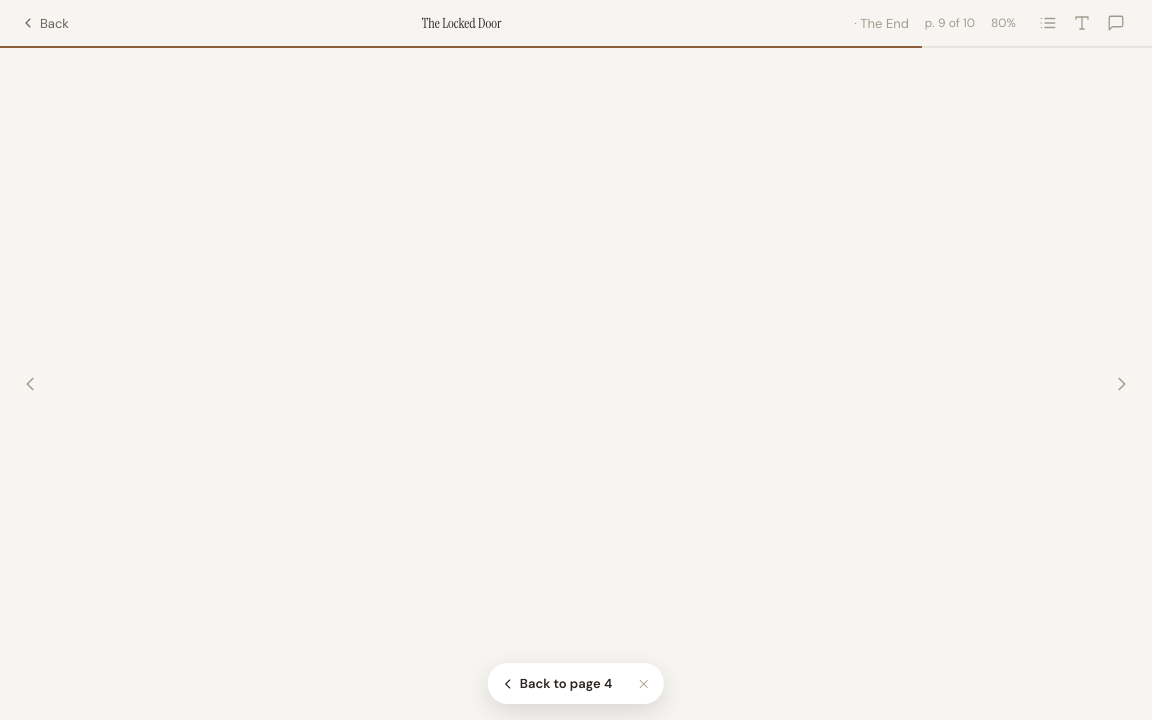
Test case: ReaderScreen › coming back after following a link inside the book › stays on the page on screen when asked to, and saves it
Expected: the button "Back to page 4" is shown, [492,667,626,700]
Step 1. Click the button named "Stay here" → (644, 684), box [628,668,660,700]
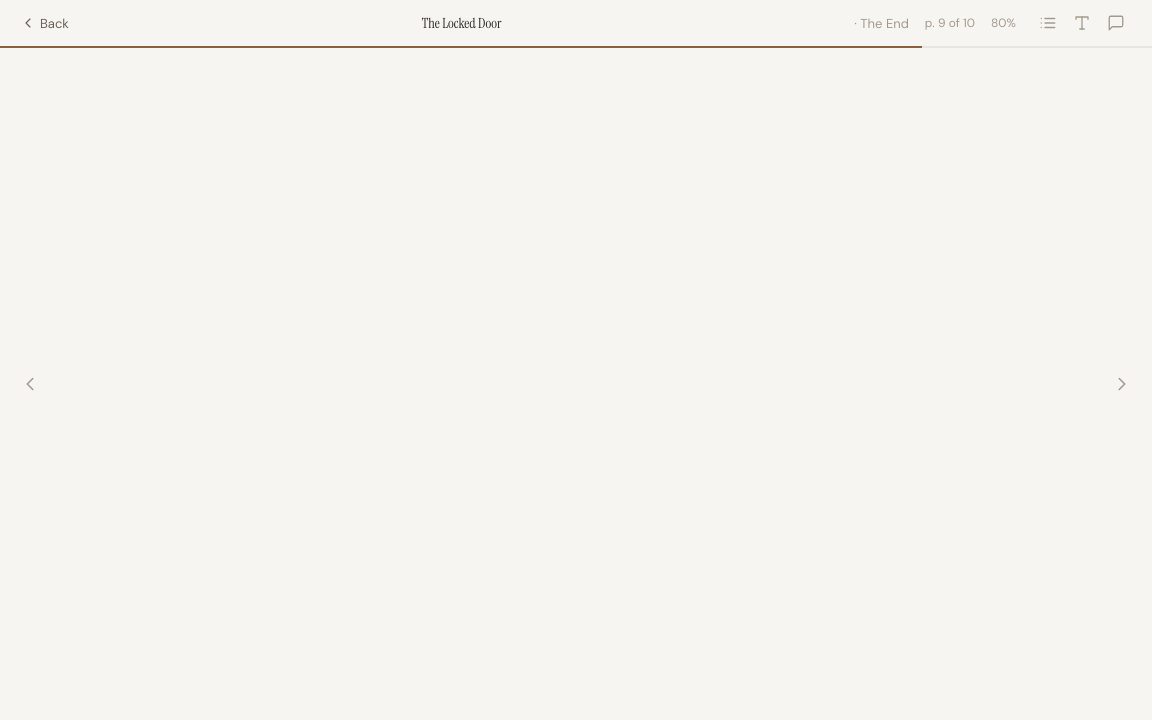
Result: the button "Back to" is gone
